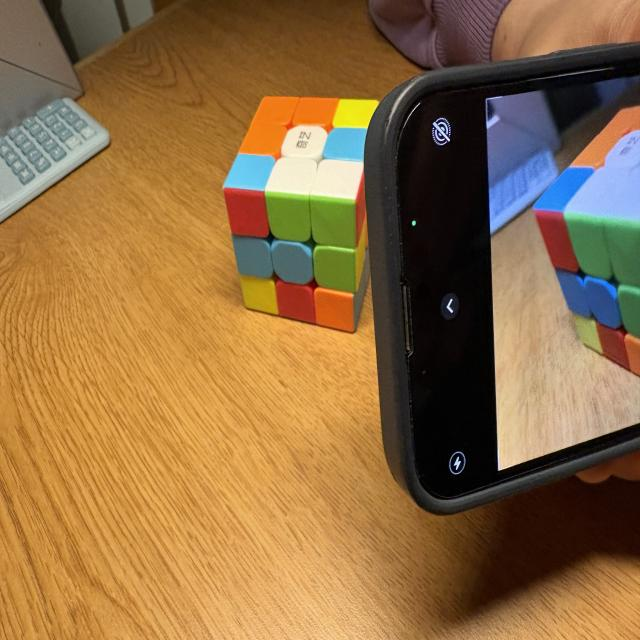Rubiks Cube: (221, 95, 378, 334)
